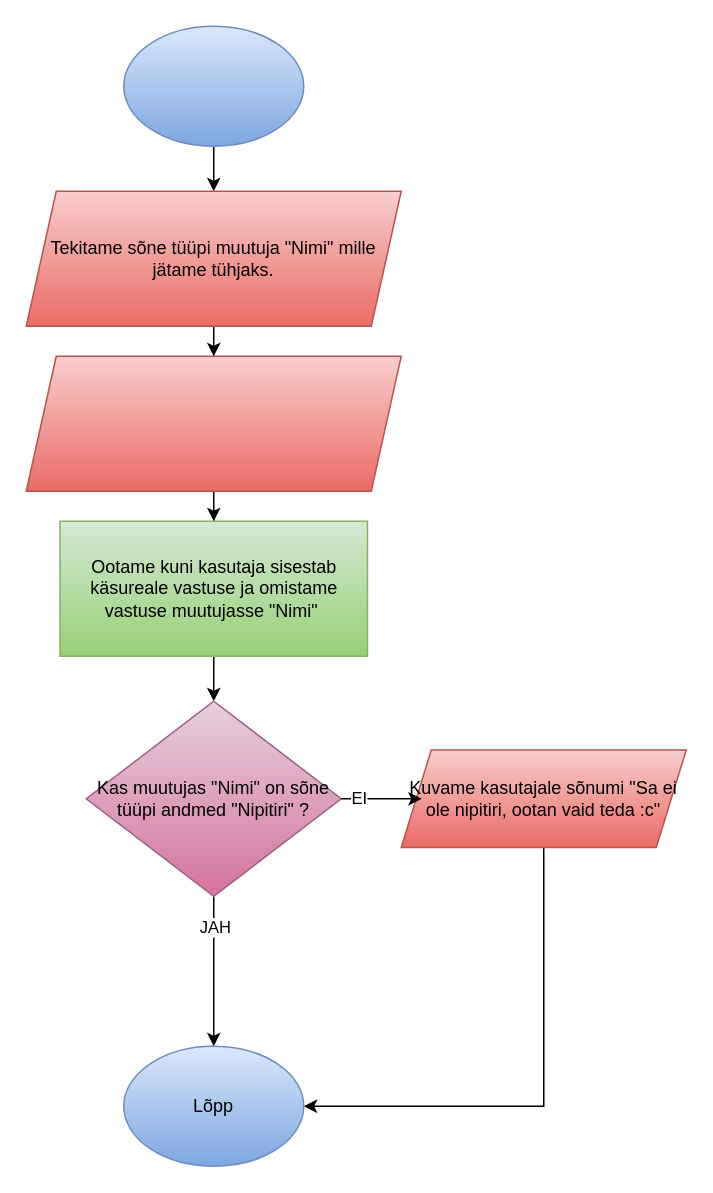
Image size: 713x1193. Some labels were removed from this diagram. The shapes that lost their labels are listed below. From the top down, each one's centre as x and y in pixels, then its label:
(213,85): Algus
(213,423): Kuvame kasutajale teksti "Mis on sinu nimi ?"
